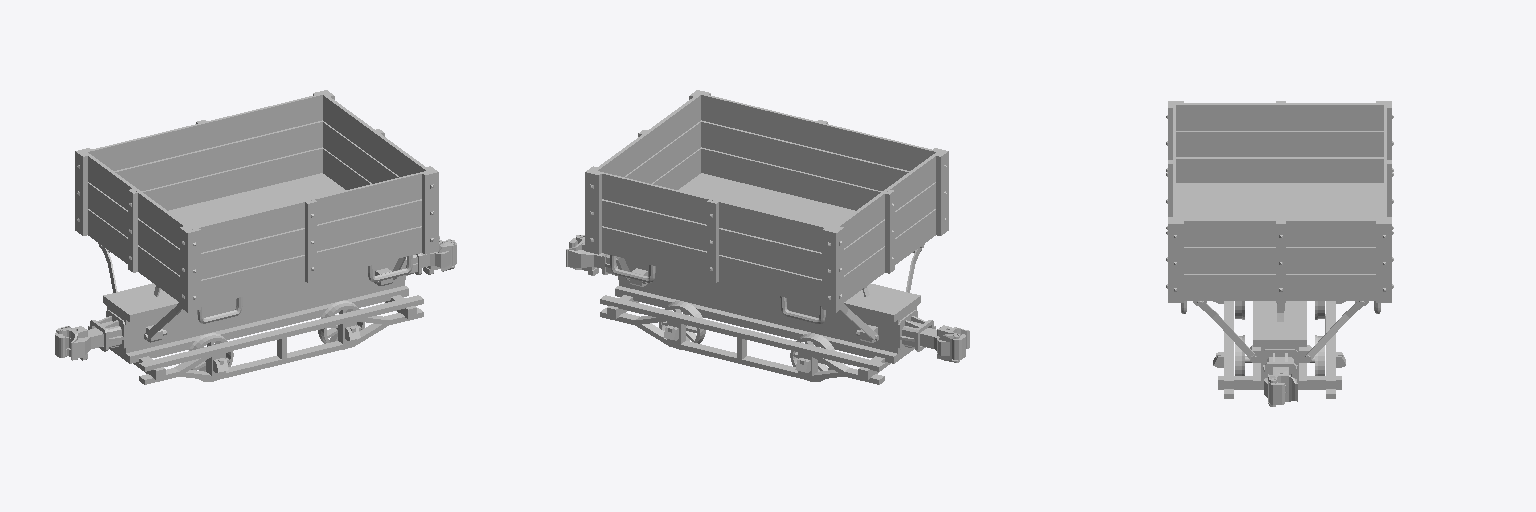
The model's file is oreempty.obj.
3 views of the same model, side by side, from view 1: azimuth 30°, elevation 25°; view 2: azimuth 150°, elevation 25°; view 3: azimuth 270°, elevation 25° (orthographic).
Visible parts, largest first — view 1: SHELL_Cube.008_Cube.019, FRAME_Cube_Cube.002, SHELL.002_Cube.011_Cube.021, SHELL.001_Cube.019_Cube.049, FRAME.004_Cube.018_FRAME.004_Cube.001_FRAME.004_Cube.018_FRAME., FRAME.004_Cube.018_FRAME.004_Cube.000, Cylinder.002_Cylinder.026, CUBE_PIPING.002_NurbsPath.006_NurbsPath.000, FRAME_WHEEL_1_Cube.001, FRAME_WHEEL_2_Cube.001; view 2: SHELL_Cube.008_Cube.019, FRAME_Cube_Cube.002, SHELL.001_Cube.019_Cube.049, SHELL.002_Cube.011_Cube.021, Cube.003_Cube.007, FRAME.004_Cube.018_FRAME.004_Cube.001_FRAME.004_Cube.018_FRAME., FRAME.004_Cube.018_FRAME.004_Cube.000, Cylinder.002_Cylinder.026, CUBE_PIPING.002_NurbsPath.006_NurbsPath.000, FRAME_WHEEL_1_Cube.001, FRAME_WHEEL_2_Cube.001; view 3: SHELL_Cube.008_Cube.019, SHELL.001_Cube.019_Cube.049, FRAME_Cube_Cube.002, SHELL.002_Cube.011_Cube.021, FRAME.004_Cube.018_FRAME.004_Cube.000, Cylinder.002_Cylinder.026, Cube.003_Cube.007, FRAME_WHEEL_1_Cube.001.
Boxes of the visible parts, x1,y1,x2,y2 form: SHELL_Cube.008_Cube.019: [83, 93, 430, 306]; FRAME_Cube_Cube.002: [103, 259, 408, 363]; SHELL.002_Cube.011_Cube.021: [133, 295, 423, 384]; SHELL.001_Cube.019_Cube.049: [75, 90, 438, 312]; FRAME.004_Cube.018_FRAME.004_Cube.001_FRAME.004_Cube.018_FRAME.: [55, 310, 125, 360]; FRAME.004_Cube.018_FRAME.004_Cube.000: [405, 236, 456, 279]; Cylinder.002_Cylinder.026: [98, 243, 405, 342]; CUBE_PIPING.002_NurbsPath.006_NurbsPath.000: [101, 248, 412, 323]; FRAME_WHEEL_1_Cube.001: [318, 301, 364, 349]; FRAME_WHEEL_2_Cube.001: [189, 333, 233, 381]; SHELL_Cube.008_Cube.019: [593, 93, 940, 306]; FRAME_Cube_Cube.002: [615, 258, 920, 363]; SHELL.001_Cube.019_Cube.049: [585, 90, 948, 312]; SHELL.002_Cube.011_Cube.021: [600, 295, 935, 384]; Cube.003_Cube.007: [600, 295, 884, 371]; FRAME.004_Cube.018_FRAME.004_Cube.001_FRAME.004_Cube.018_FRAME.: [898, 310, 969, 362]; FRAME.004_Cube.018_FRAME.004_Cube.000: [566, 235, 618, 279]; Cylinder.002_Cylinder.026: [616, 244, 924, 342]; CUBE_PIPING.002_NurbsPath.006_NurbsPath.000: [610, 249, 921, 323]; FRAME_WHEEL_1_Cube.001: [659, 301, 705, 349]; FRAME_WHEEL_2_Cube.001: [790, 333, 834, 381]; SHELL_Cube.008_Cube.019: [1173, 103, 1386, 300]; SHELL.001_Cube.019_Cube.049: [1168, 101, 1391, 302]; FRAME_Cube_Cube.002: [1253, 301, 1306, 387]; SHELL.002_Cube.011_Cube.021: [1213, 301, 1345, 398]; FRAME.004_Cube.018_FRAME.004_Cube.000: [1262, 349, 1298, 406]; Cylinder.002_Cylinder.026: [1193, 301, 1368, 362]; Cube.003_Cube.007: [1326, 301, 1335, 385]; FRAME_WHEEL_1_Cube.001: [1235, 335, 1324, 375].
Size of the model in its own units: 8.48 by 3.87 by 4.25.